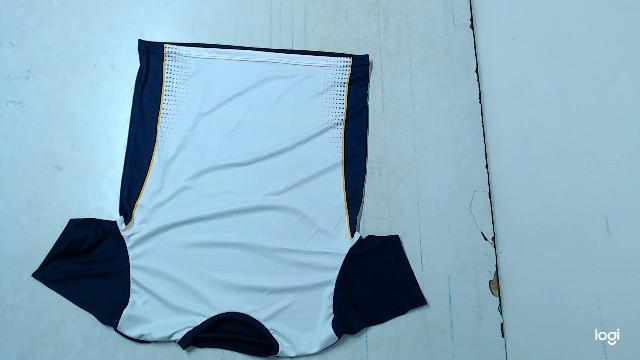new-garment: (33, 40, 425, 357)
